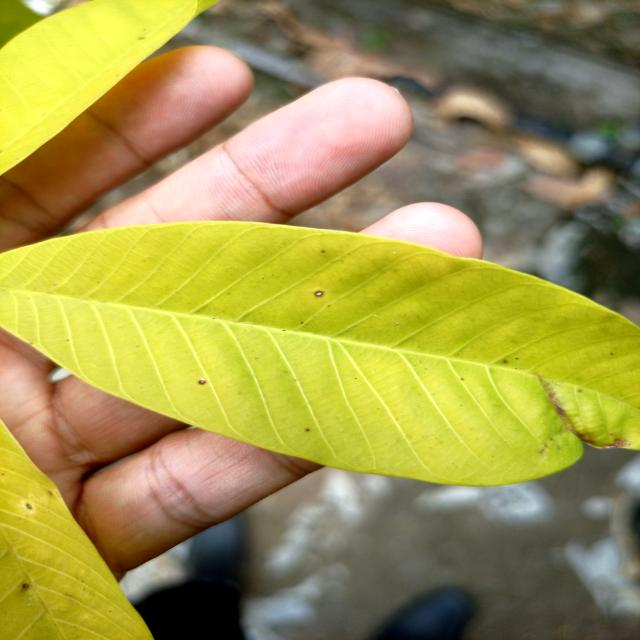Colletotrichum: (315, 291, 323, 296), (198, 380, 206, 384)
